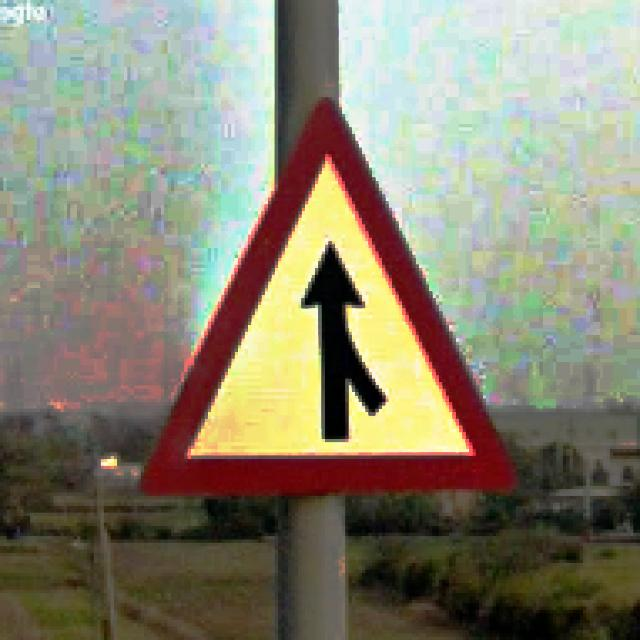rightmerge: (129, 90, 522, 491)
